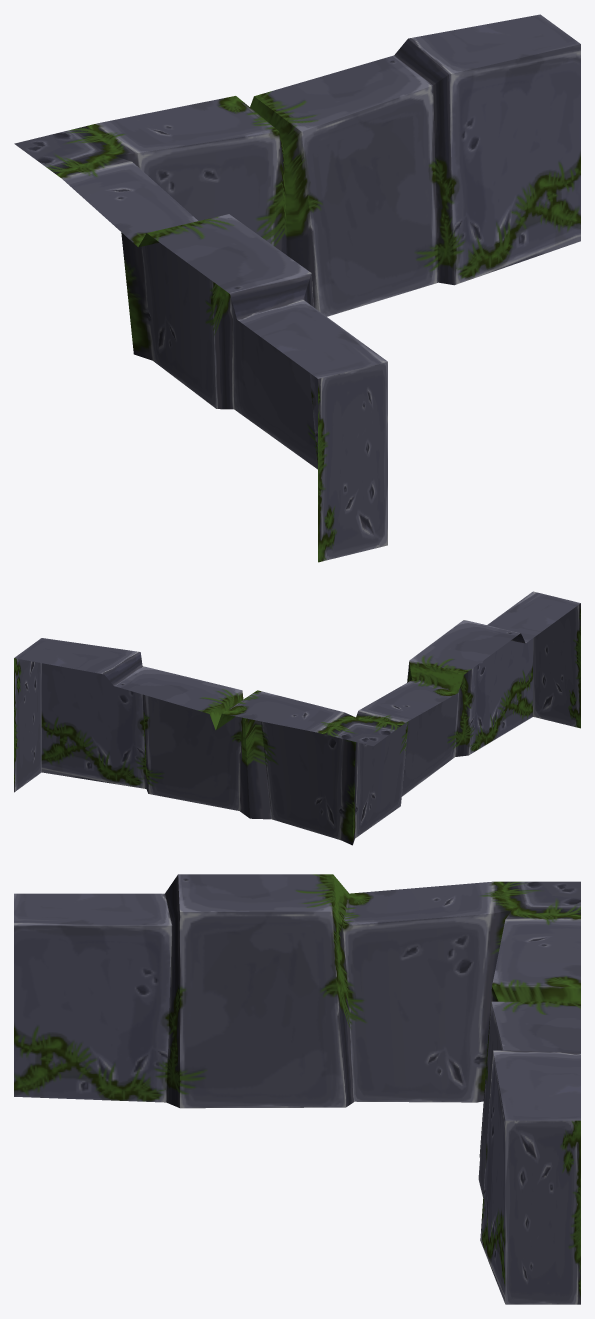
The model's file is MOD_WallTrim_01_E_corner_concave_2.fbx.
3 views of the same model, one above another, from view 1: azimuth 30°, elevation 25°; view 2: azimuth 150°, elevation 25°; view 3: azimuth 270°, elevation 25° (orthographic). The views are drawn at different scales.
Visible parts, largest first — view 1: MOD_WallTrim_01_E_corner_concave_2; view 2: MOD_WallTrim_01_E_corner_concave_2; view 3: MOD_WallTrim_01_E_corner_concave_2.
Boxes of the visible parts, box(x1,y1,x2,y2) form: MOD_WallTrim_01_E_corner_concave_2: box(14, 14, 580, 562); MOD_WallTrim_01_E_corner_concave_2: box(14, 591, 580, 845); MOD_WallTrim_01_E_corner_concave_2: box(14, 874, 580, 1304).
Bounding box in the file's own units: 150 × 55.91 × 150.
